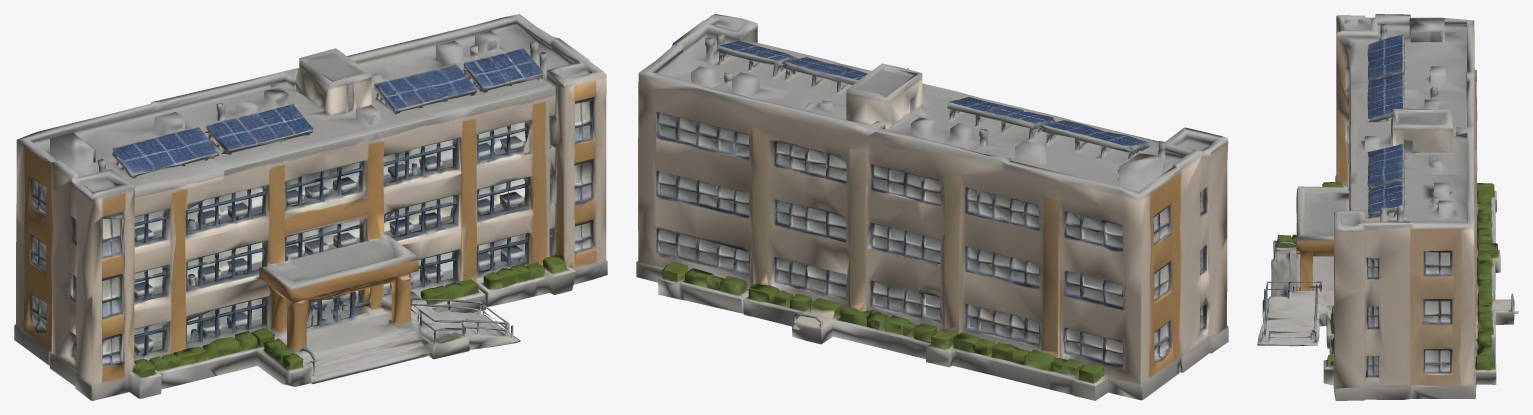
The model's file is teacher.glb.
The picture shows the model from 3 angles, left to right: view 1: azimuth 30°, elevation 25°; view 2: azimuth 150°, elevation 25°; view 3: azimuth 270°, elevation 25°; orthographic projection. The views are drawn at different scales.
Parts seen in each view (by area): view 1: tripo_node_eb291458-cc5e-46dc-aa29-b5d875b4a198; view 2: tripo_node_eb291458-cc5e-46dc-aa29-b5d875b4a198; view 3: tripo_node_eb291458-cc5e-46dc-aa29-b5d875b4a198.
Boxes of the visible parts, box(x1,y1,x2,y2) form: tripo_node_eb291458-cc5e-46dc-aa29-b5d875b4a198: box(14, 14, 607, 400); tripo_node_eb291458-cc5e-46dc-aa29-b5d875b4a198: box(636, 14, 1228, 400); tripo_node_eb291458-cc5e-46dc-aa29-b5d875b4a198: box(1257, 14, 1518, 400).
Bounding box in the file's own units: 1 × 0.4227 × 0.5173.
Materials: 1 (1 with a texture image).
